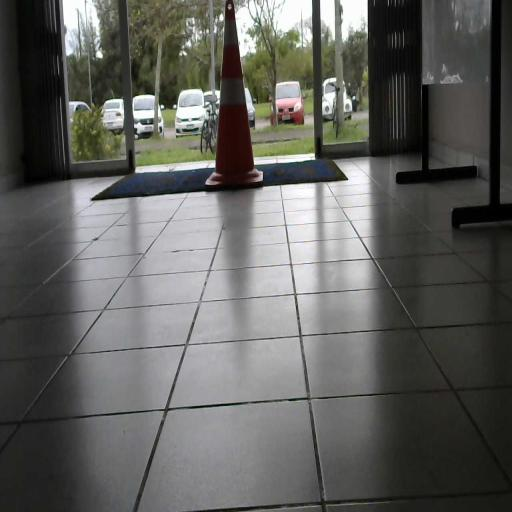cone: (206, 1, 264, 188)
